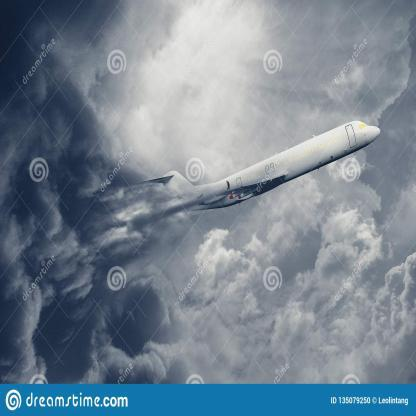CIV_Plane: (152, 118, 382, 219)
